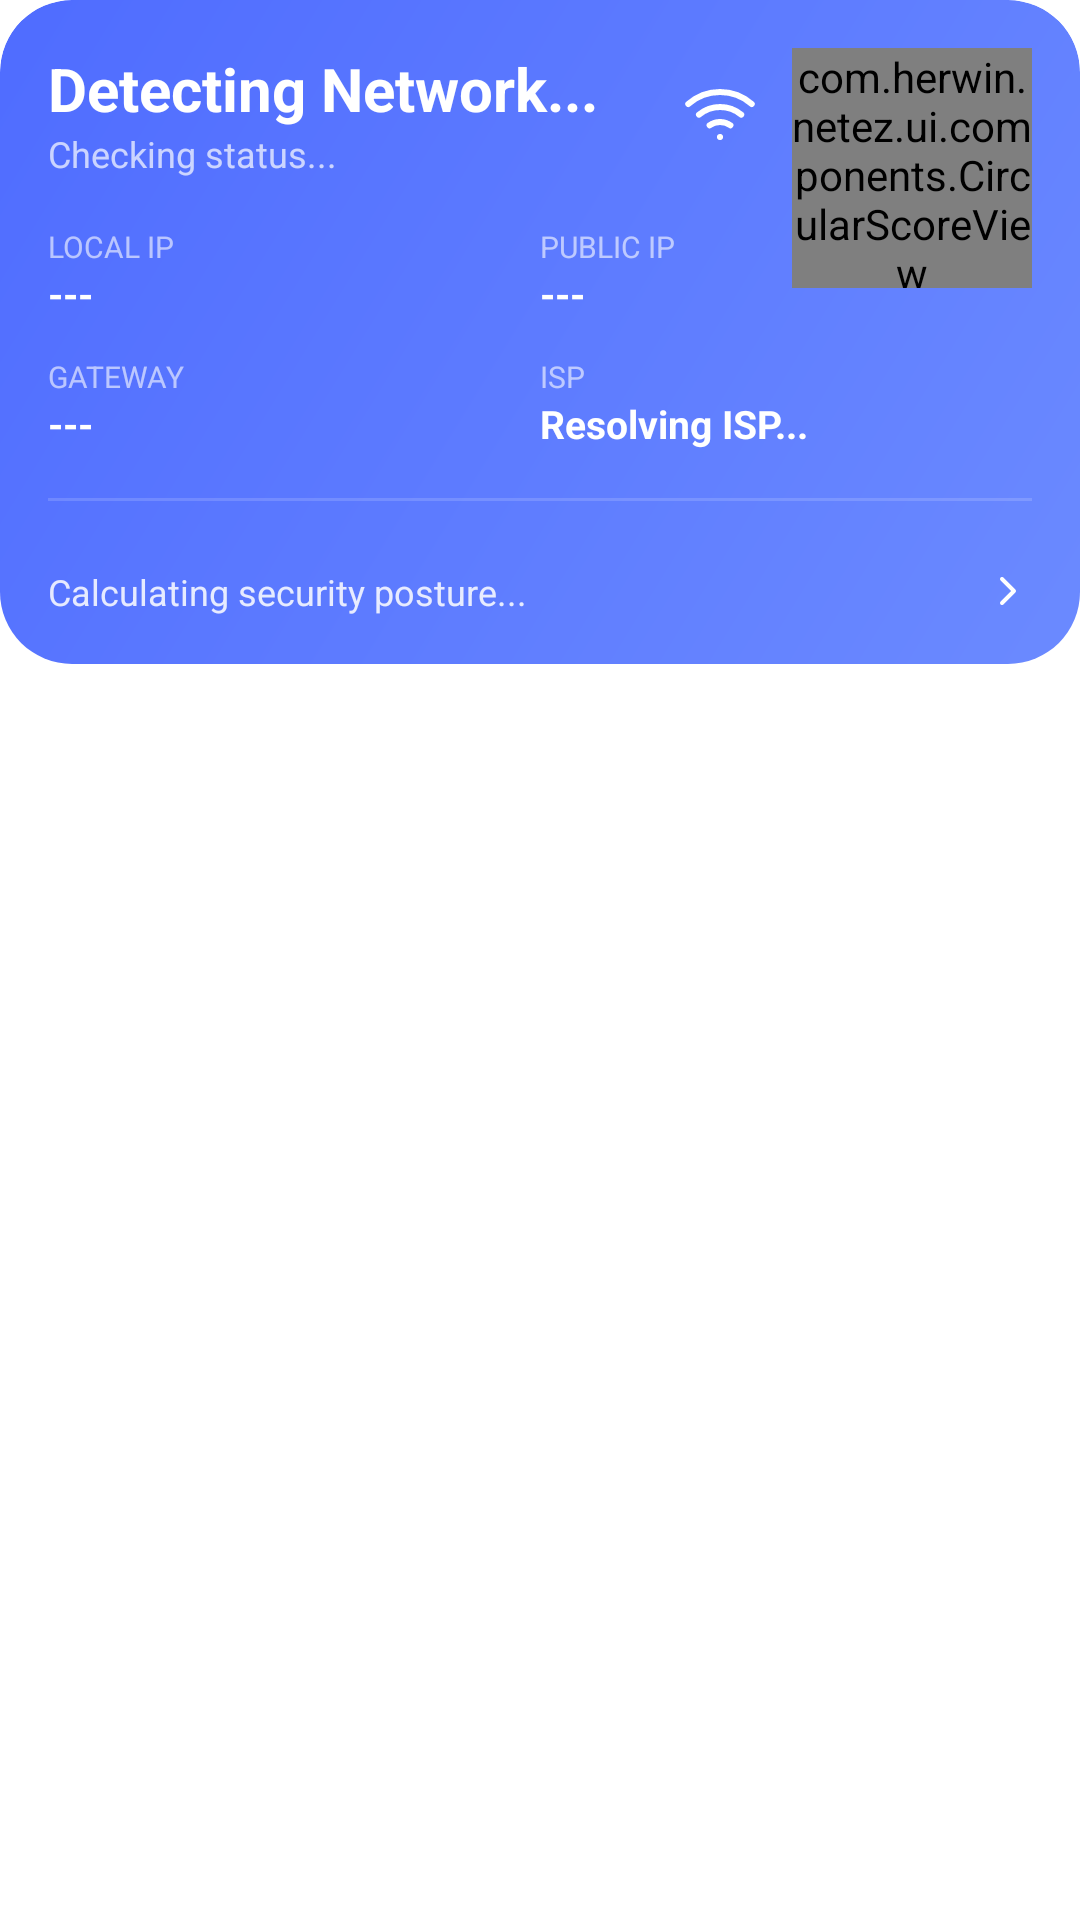

Icons on this 1080×1920 Android screen, each with the point to tap as (x=x, y=y):
chevron right: (x=1008, y=591)
wifi: (x=720, y=114)
